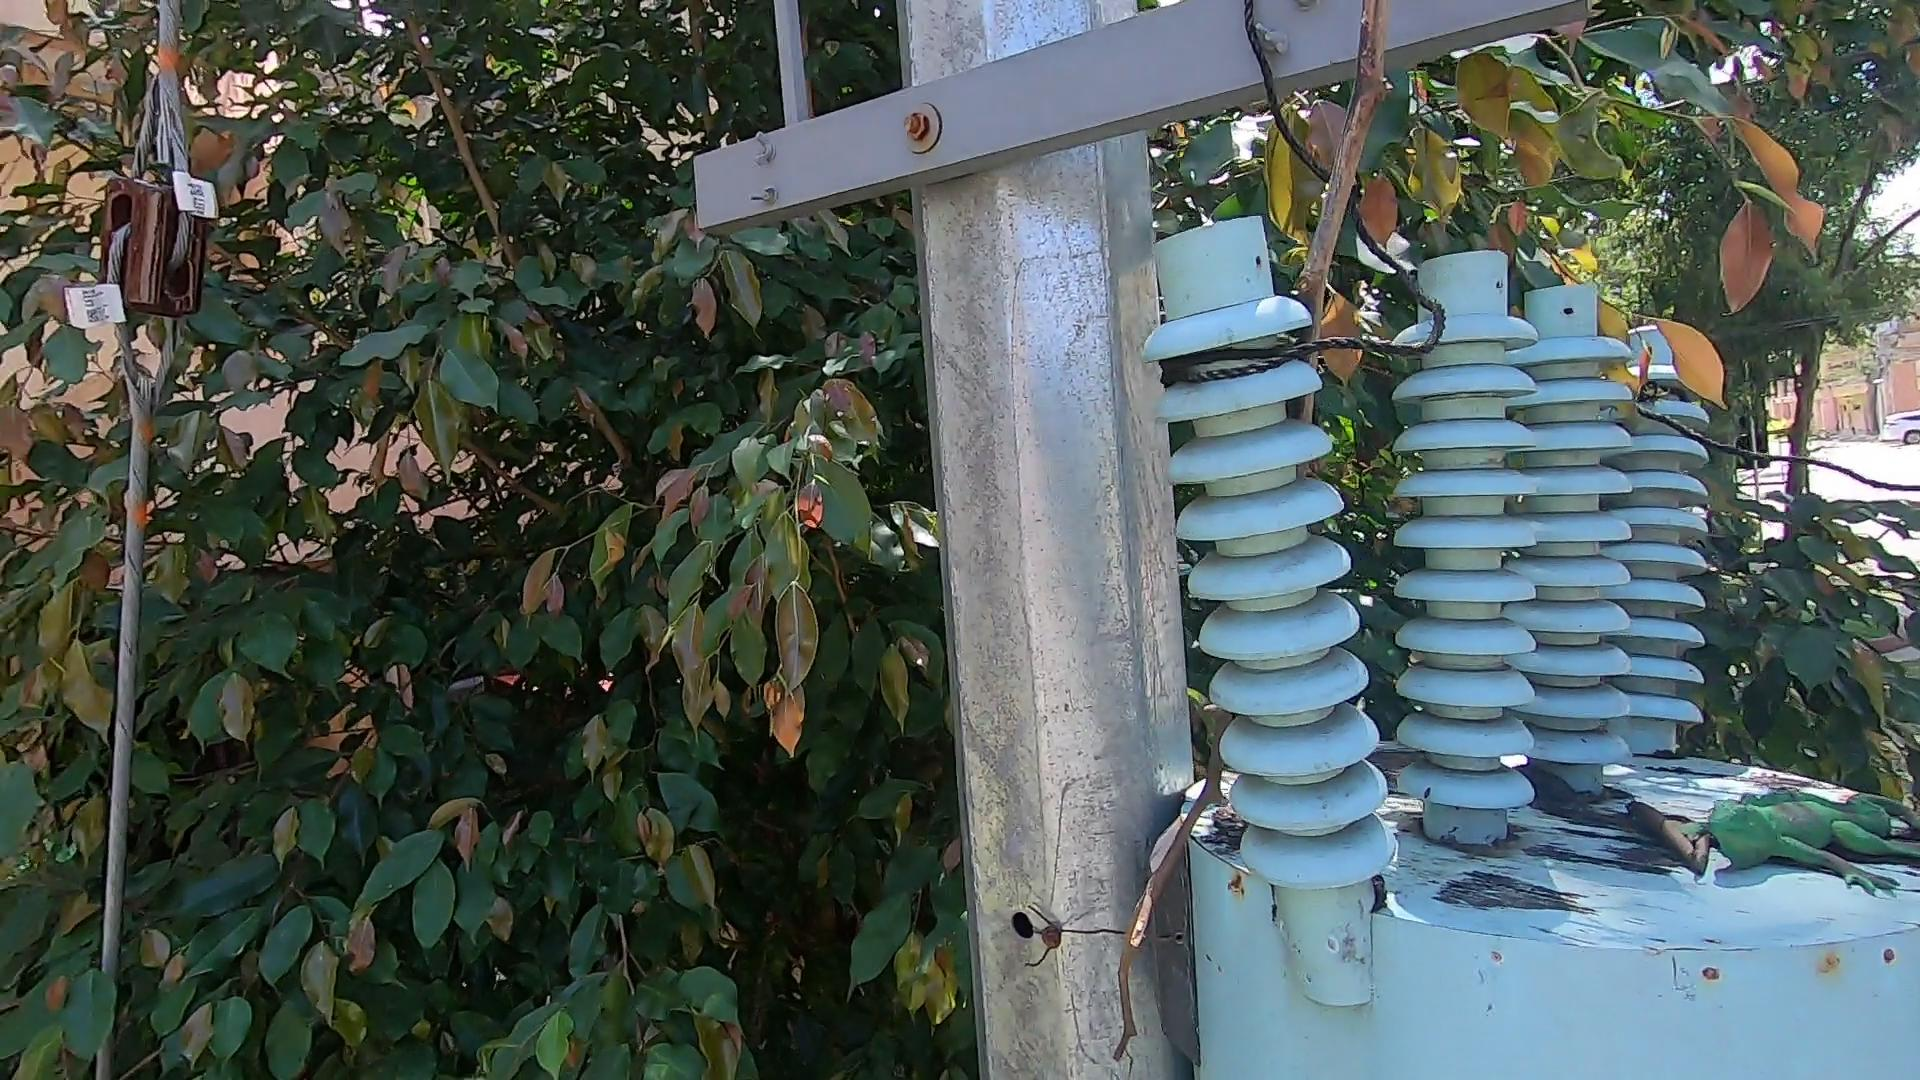branch with leaves: (1561, 253, 1754, 433)
leaf: (1626, 785, 1713, 878), (1516, 762, 1610, 828)
tree branch: (1072, 11, 1423, 1080)
